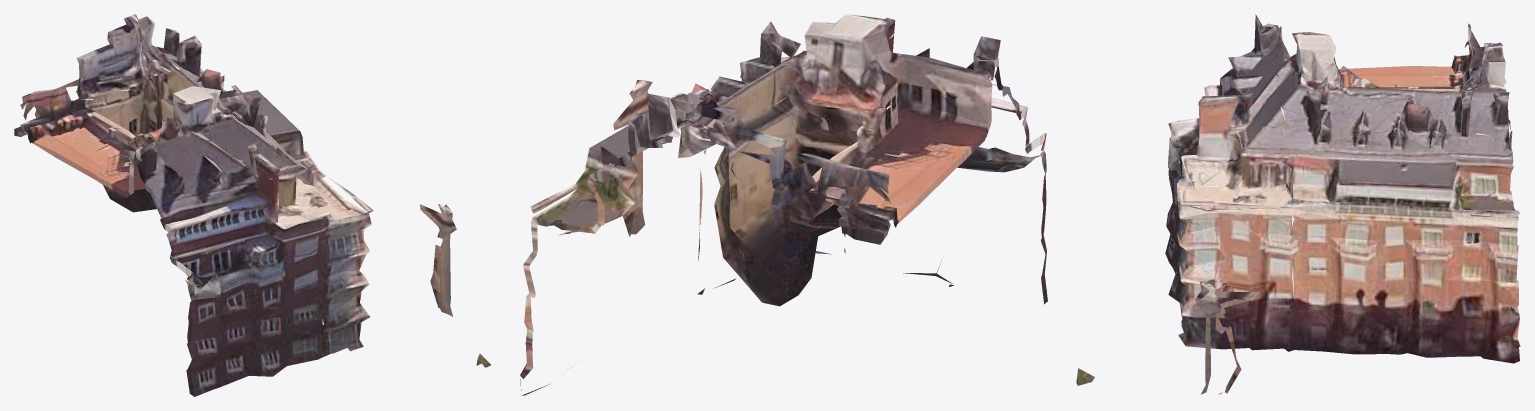
3 renders of one model, left to right at view 1: azimuth 30°, elevation 25°; view 2: azimuth 150°, elevation 25°; view 3: azimuth 270°, elevation 25°, orthographic. The views are drawn at different scales.
Visible parts, largest first — view 1: Mesh_0; view 2: Mesh_0; view 3: Mesh_0.
Boxes of the visible parts, x1,y1,x2,y2 form: Mesh_0: (14,14,490,396); Mesh_0: (520,14,1047,395); Mesh_0: (1076,14,1520,394).
Size of the model in its own units: 32.58 by 24.56 by 38.2.
2 materials, 2 textured.
